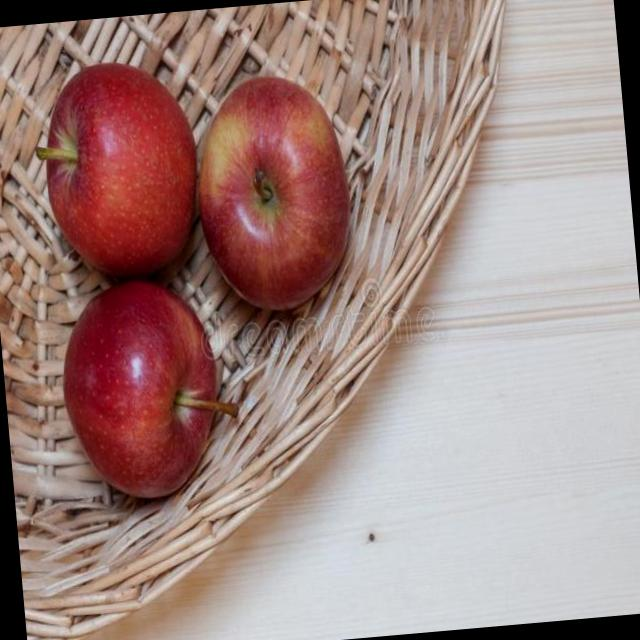Apple: (188, 65, 362, 321), (56, 270, 229, 506), (35, 56, 206, 282)
